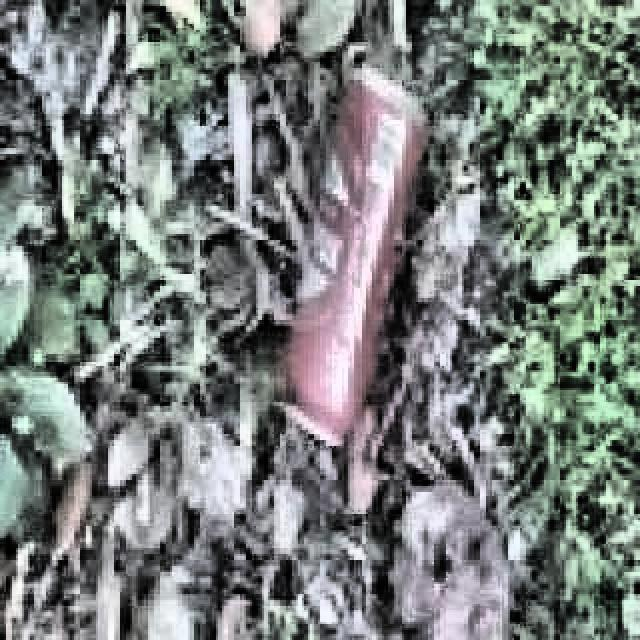metal: (266, 60, 428, 450)
